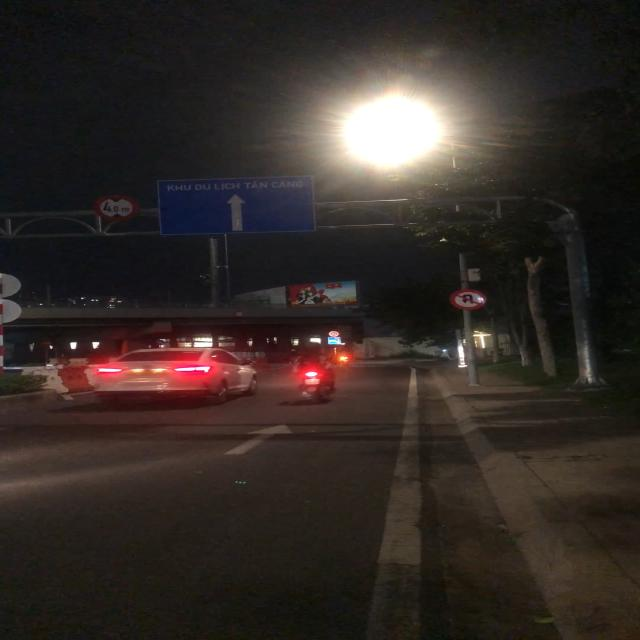Bien bao cam quay dau xe: (447, 288, 491, 312)
Bien bao han che chieu cao: (89, 191, 141, 223)
